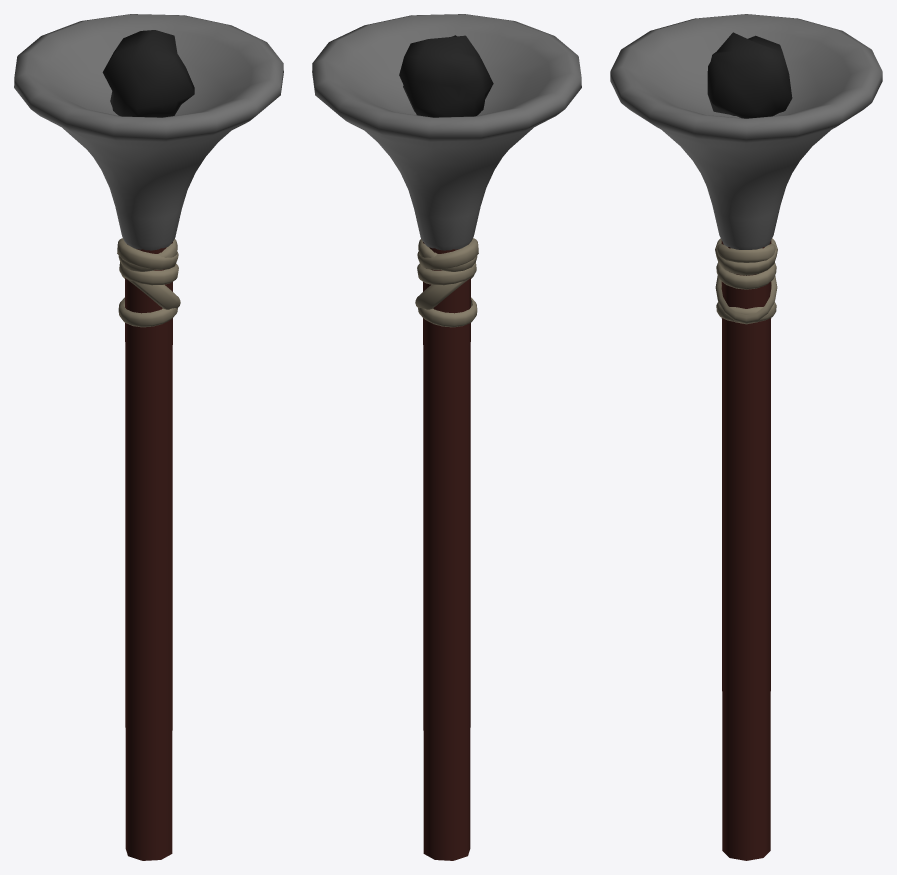
Rendered from TochaComum.fbx.
3 renders of one model, left to right at view 1: azimuth 30°, elevation 25°; view 2: azimuth 150°, elevation 25°; view 3: azimuth 270°, elevation 25°, orthographic.
Visible parts, largest first — view 1: Braseiro, Poste, Carvao, Cordas; view 2: Braseiro, Poste, Carvao, Cordas; view 3: Braseiro, Poste, Carvao, Cordas.
Part boxes in pixels (x1,y1,x2,y2): Braseiro: [14, 14, 283, 250]; Poste: [125, 242, 172, 860]; Carvao: [102, 30, 194, 117]; Cordas: [117, 238, 180, 327]; Braseiro: [312, 14, 581, 250]; Poste: [423, 242, 470, 860]; Carvao: [399, 35, 493, 117]; Cordas: [415, 238, 478, 327]; Braseiro: [610, 14, 882, 249]; Poste: [721, 240, 771, 860]; Carvao: [707, 32, 792, 118]; Cordas: [715, 238, 777, 324].
Bounding box in the file's own units: 44.26 × 146 × 44.26.
